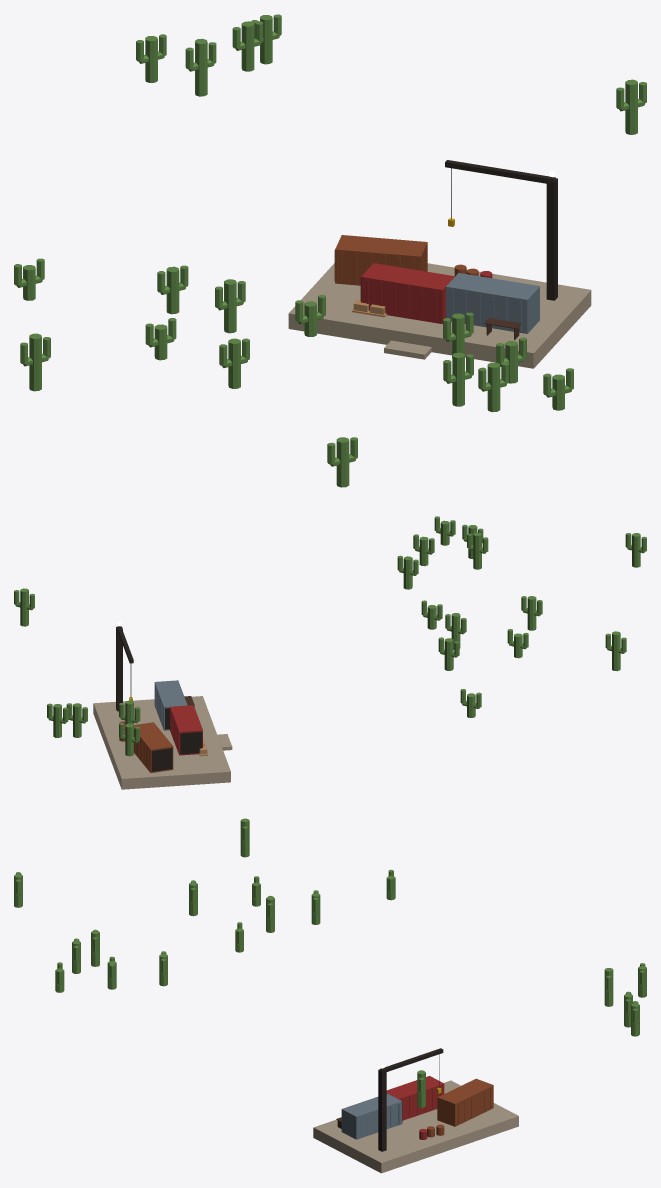
File: z2-atelier.glb
3 views of the same model, one above another, from view 1: azimuth 30°, elevation 25°; view 2: azimuth 150°, elevation 25°; view 3: azimuth 270°, elevation 25° (orthographic). The views are drawn at different scales.
Visible parts, largest first — view 1: Z2_Architecture_Cacti, Z2_Architecture_Workshop_stone, Z2_Architecture_Workshop_roof, Z2_Architecture_Workshop_steel, Z2_Architecture_Workshop_rust, Z2_Architecture_Workshop_iron; view 2: Z2_Architecture_Cacti, Z2_Architecture_Workshop_stone, Z2_Architecture_Workshop_iron, Z2_Architecture_Workshop_rust, Z2_Architecture_Workshop_roof, Z2_Architecture_Workshop_steel; view 3: Z2_Architecture_Workshop_stone, Z2_Architecture_Cacti, Z2_Architecture_Workshop_rust, Z2_Architecture_Workshop_steel, Z2_Architecture_Workshop_roof, Z2_Architecture_Workshop_iron.
Part boxes in pixels (x1=…): Z2_Architecture_Cacti: x1=14, y1=14, x2=646, y2=487; Z2_Architecture_Workshop_stone: x1=288, y1=263, x2=591, y2=368; Z2_Architecture_Workshop_roof: x1=361, y1=263, x2=492, y2=323; Z2_Architecture_Workshop_steel: x1=446, y1=273, x2=539, y2=333; Z2_Architecture_Workshop_rust: x1=335, y1=235, x2=478, y2=285; Z2_Architecture_Workshop_iron: x1=334, y1=160, x2=557, y2=301; Z2_Architecture_Cacti: x1=14, y1=516, x2=646, y2=756; Z2_Architecture_Workshop_stone: x1=93, y1=696, x2=232, y2=789; Z2_Architecture_Workshop_iron: x1=116, y1=626, x2=202, y2=771; Z2_Architecture_Workshop_rust: x1=119, y1=722, x2=173, y2=772; Z2_Architecture_Workshop_roof: x1=119, y1=705, x2=202, y2=755; Z2_Architecture_Workshop_steel: x1=154, y1=680, x2=187, y2=730; Z2_Architecture_Workshop_stone: x1=313, y1=1080, x2=518, y2=1173; Z2_Architecture_Cacti: x1=14, y1=818, x2=646, y2=1107; Z2_Architecture_Workshop_rust: x1=427, y1=1078, x2=493, y2=1137; Z2_Architecture_Workshop_steel: x1=341, y1=1093, x2=402, y2=1139; Z2_Architecture_Workshop_roof: x1=386, y1=1076, x2=444, y2=1139; Z2_Architecture_Workshop_iron: x1=378, y1=1048, x2=443, y2=1151.
Size of the model in its own units: 59.84 by 15.39 by 64.34.
